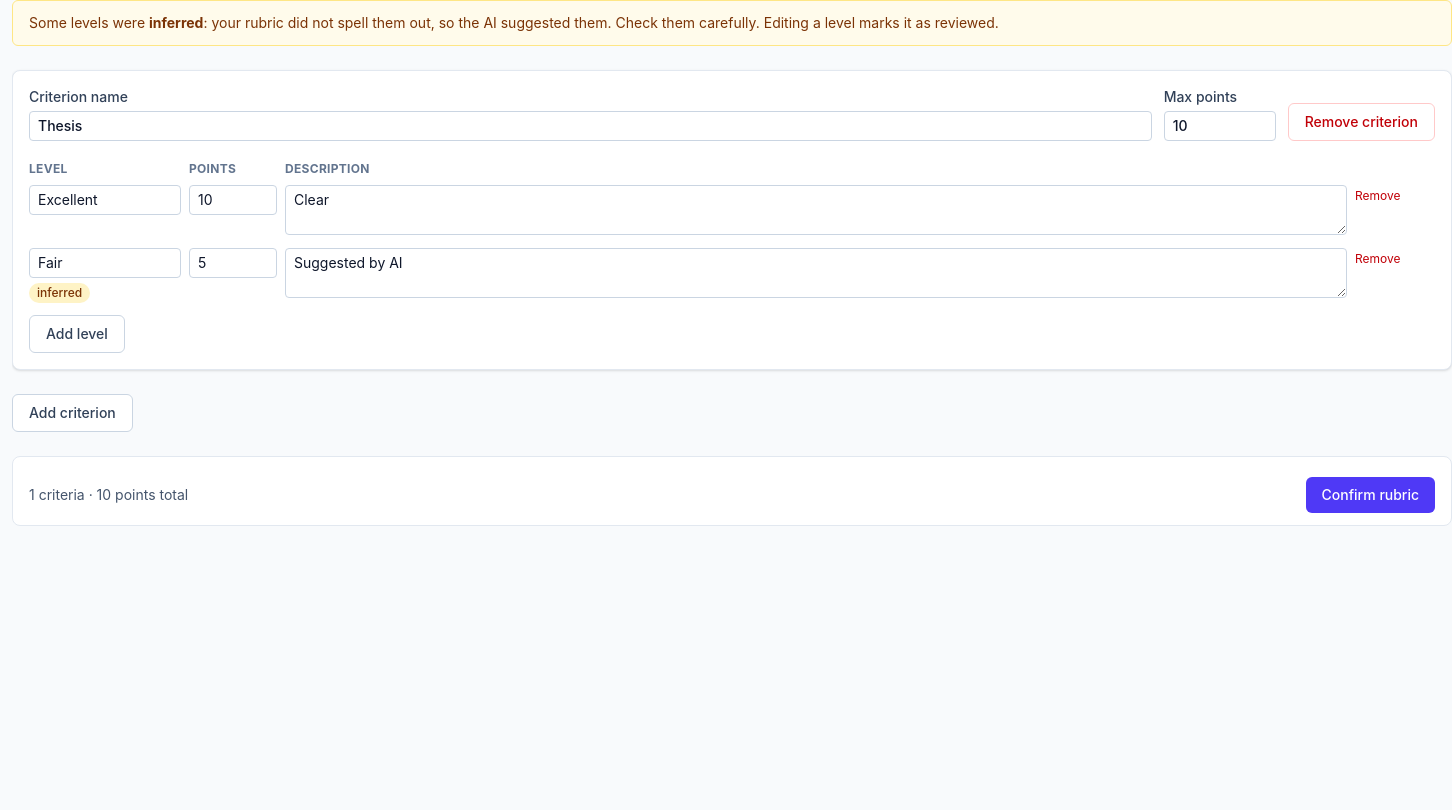
Scenario: RubricEditor › blocks confirming while the rubric is invalid and says why
Replace the text in the 1st number field named "Level points" with "99": (233, 200) [189, 185, 277, 215]
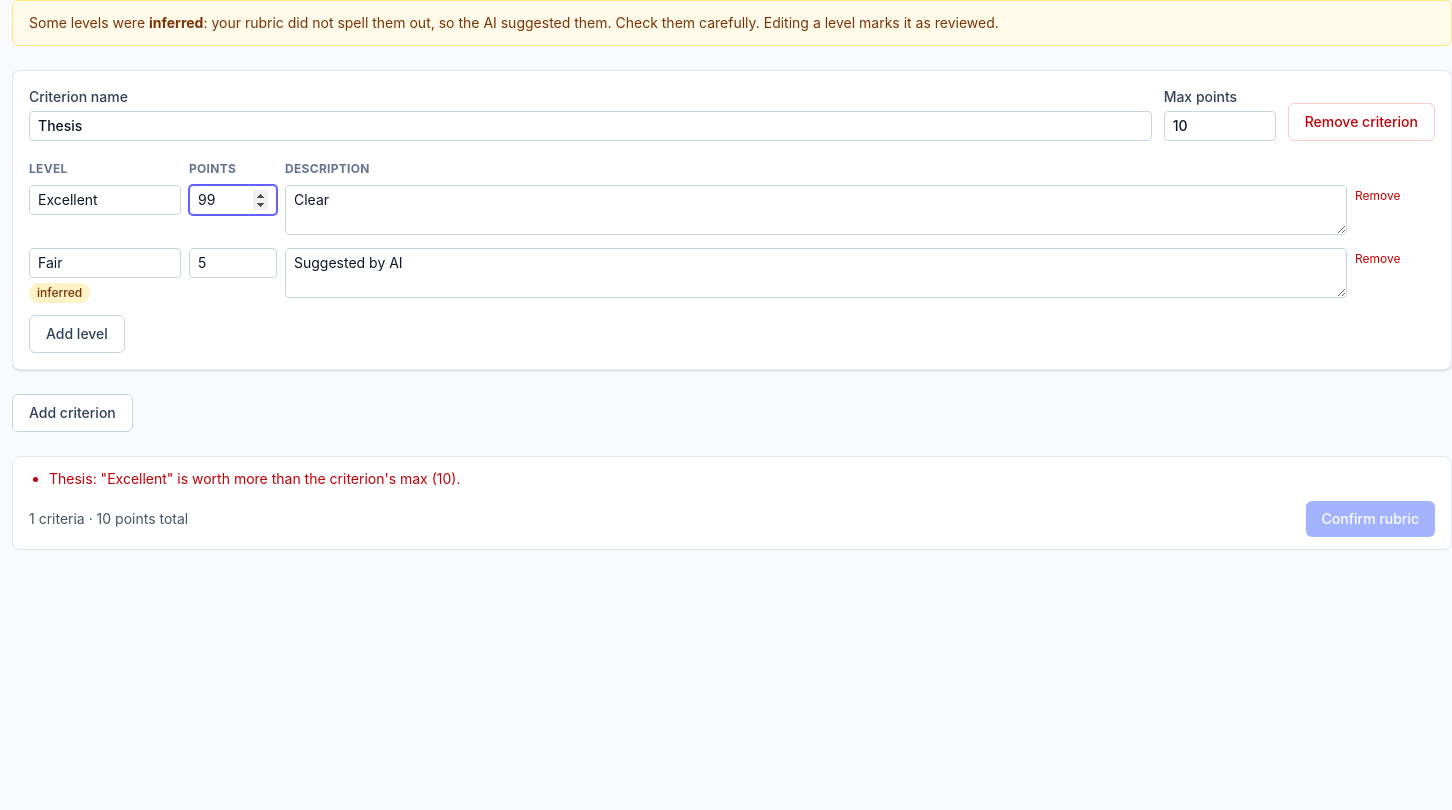
Now the button "Confirm rubric" is disabled, box [1306, 501, 1435, 537]
Now the list item "worth more than" is shown, box [49, 470, 460, 487]
